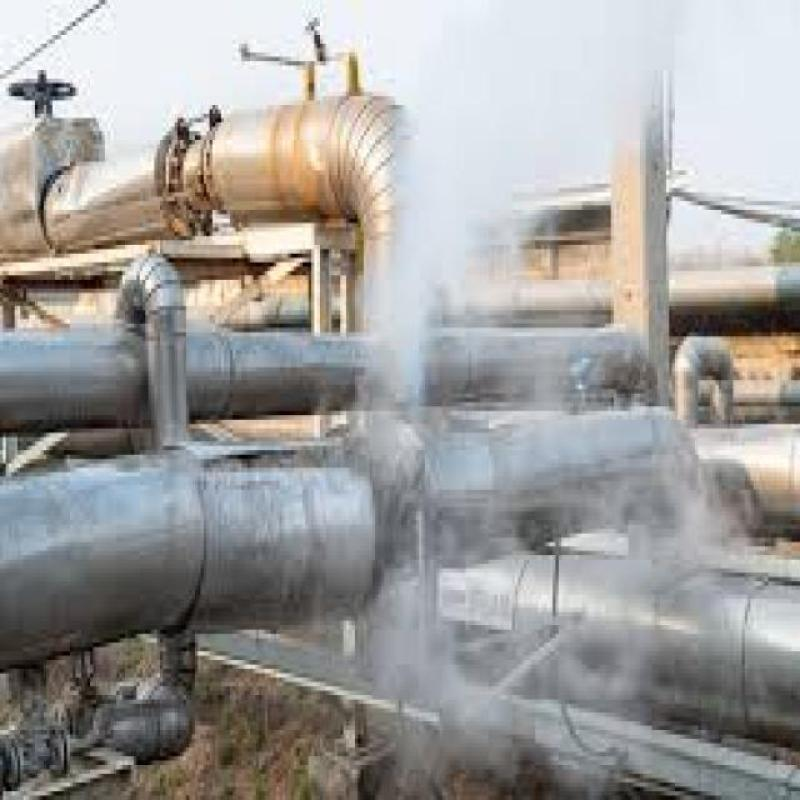Fracture: (229, 225, 492, 550)
